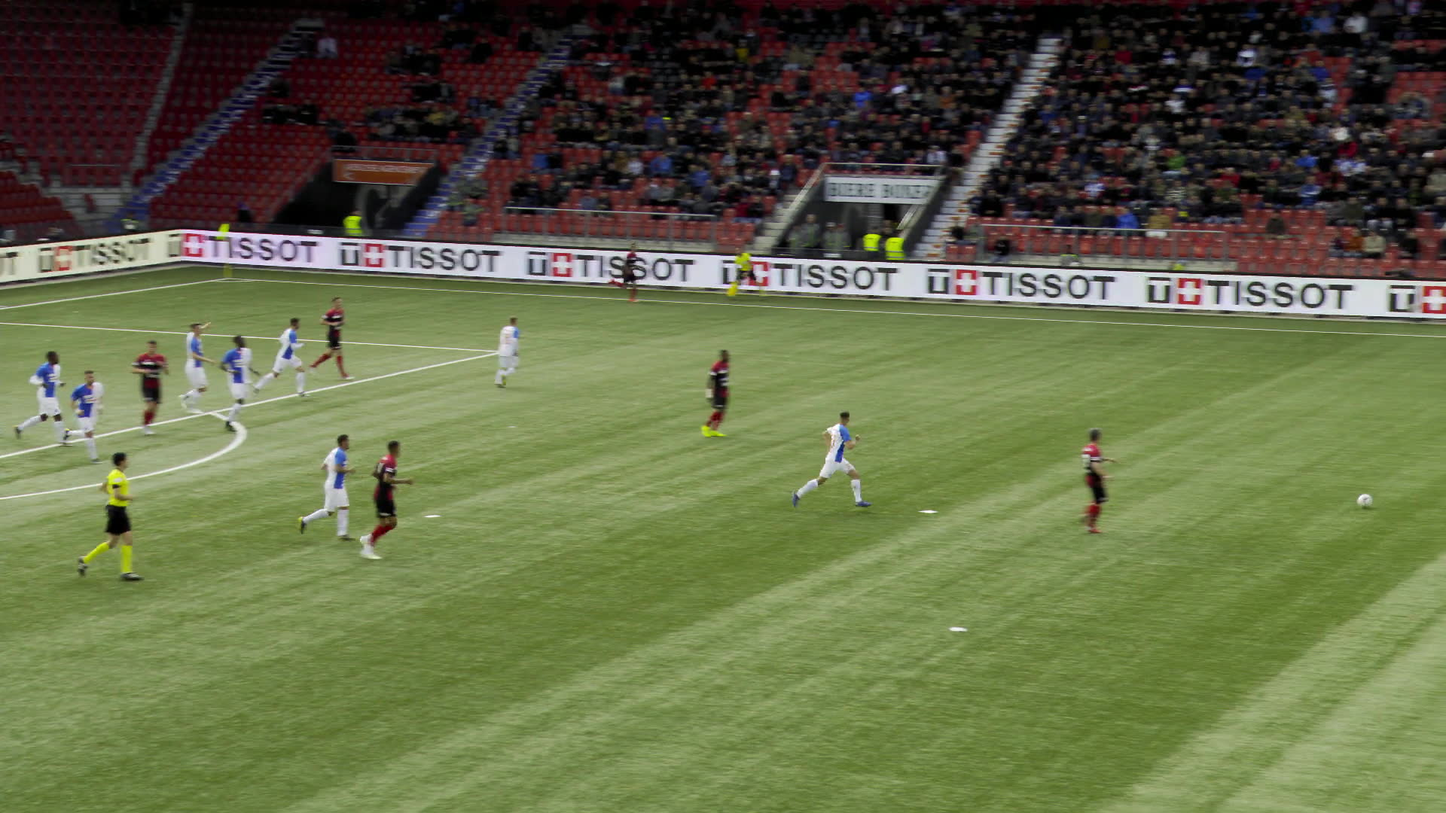ball: (1350, 497, 1367, 508)
player: (345, 436, 410, 560), (786, 409, 856, 510), (1072, 427, 1124, 533), (303, 434, 352, 540), (212, 330, 256, 434), (20, 349, 63, 447), (174, 315, 215, 415), (258, 316, 303, 400), (65, 368, 104, 461), (138, 336, 174, 436), (308, 299, 346, 381), (699, 347, 733, 437), (487, 313, 523, 389), (610, 242, 639, 301), (0, 342, 11, 434)
referee: (84, 450, 149, 578), (721, 243, 761, 301)
